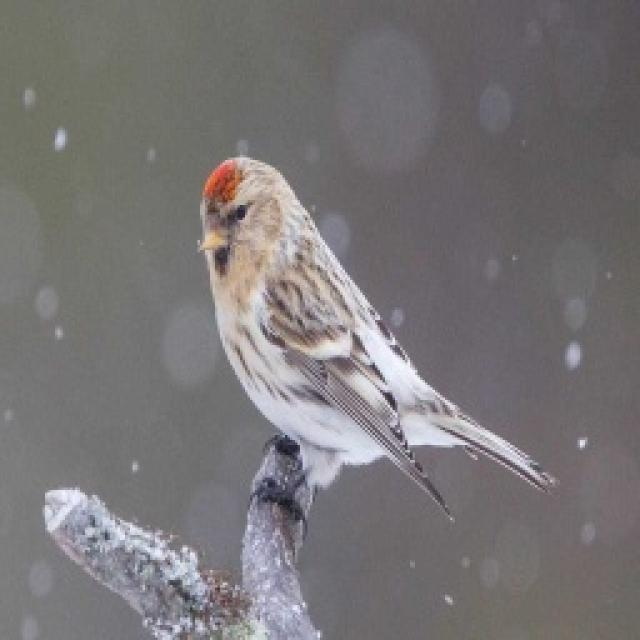sparrow: (188, 150, 560, 538)
